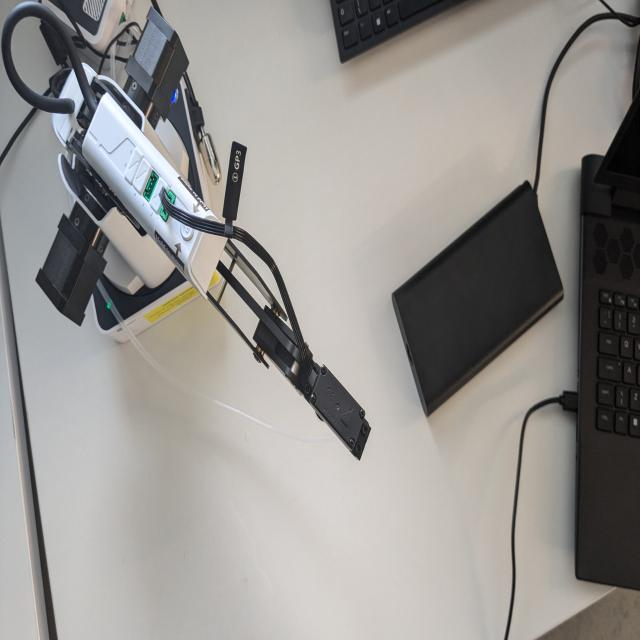Robot-end-effector-HF8z: (299, 362, 373, 463)
